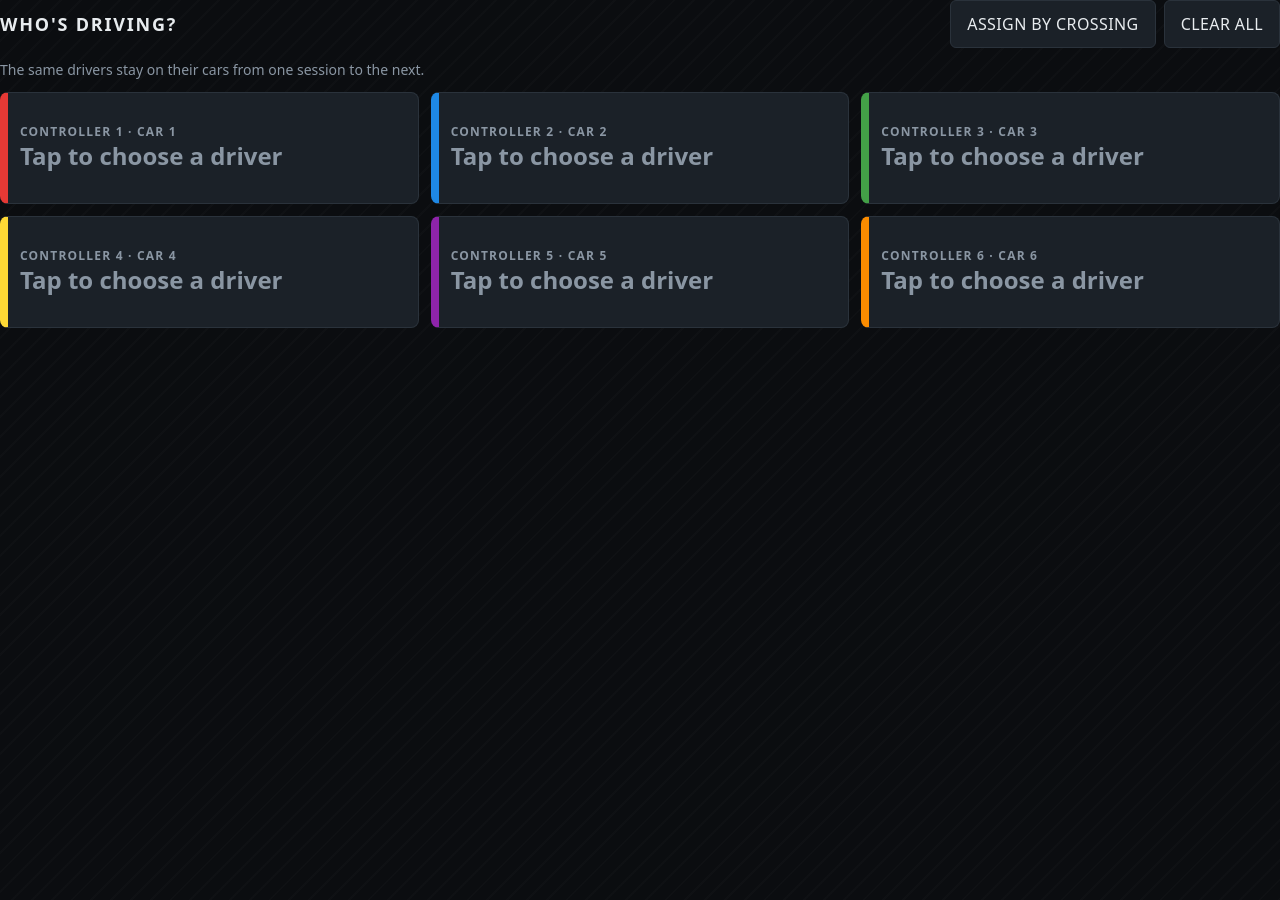
Test: WhoDriving › assigns a driver to a car from the tile picker
The width and height of the screenshot is (1280, 900).
What coordinates should you click on to do the following:
click the button with test id "car-tile"
I would click on:
 (209, 148)
Its box is [0, 92, 419, 204].
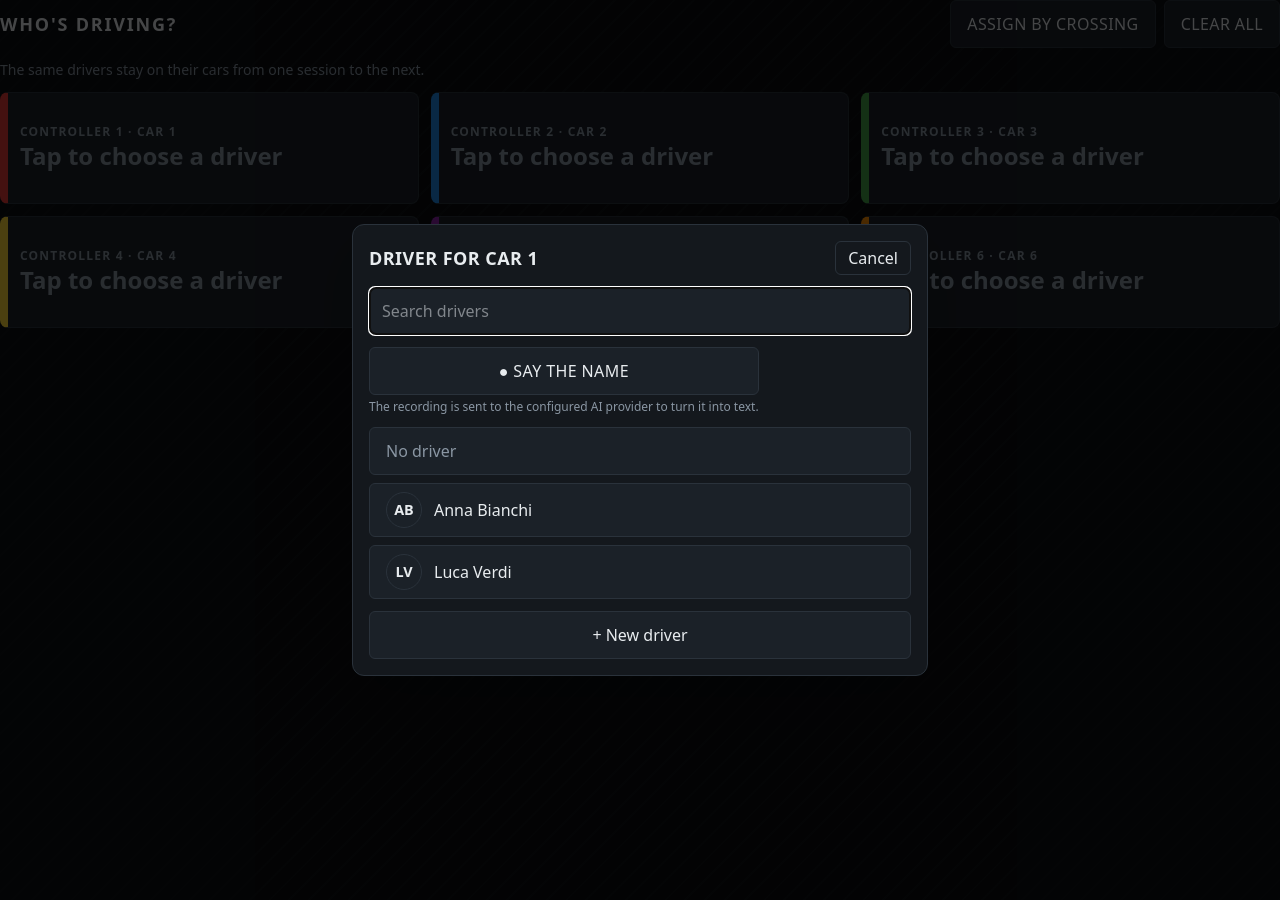
What coordinates should you click on to do the following:
click the text "Luca Verdi"
I would click on:
 (473, 572)
Its box is [434, 560, 512, 584].
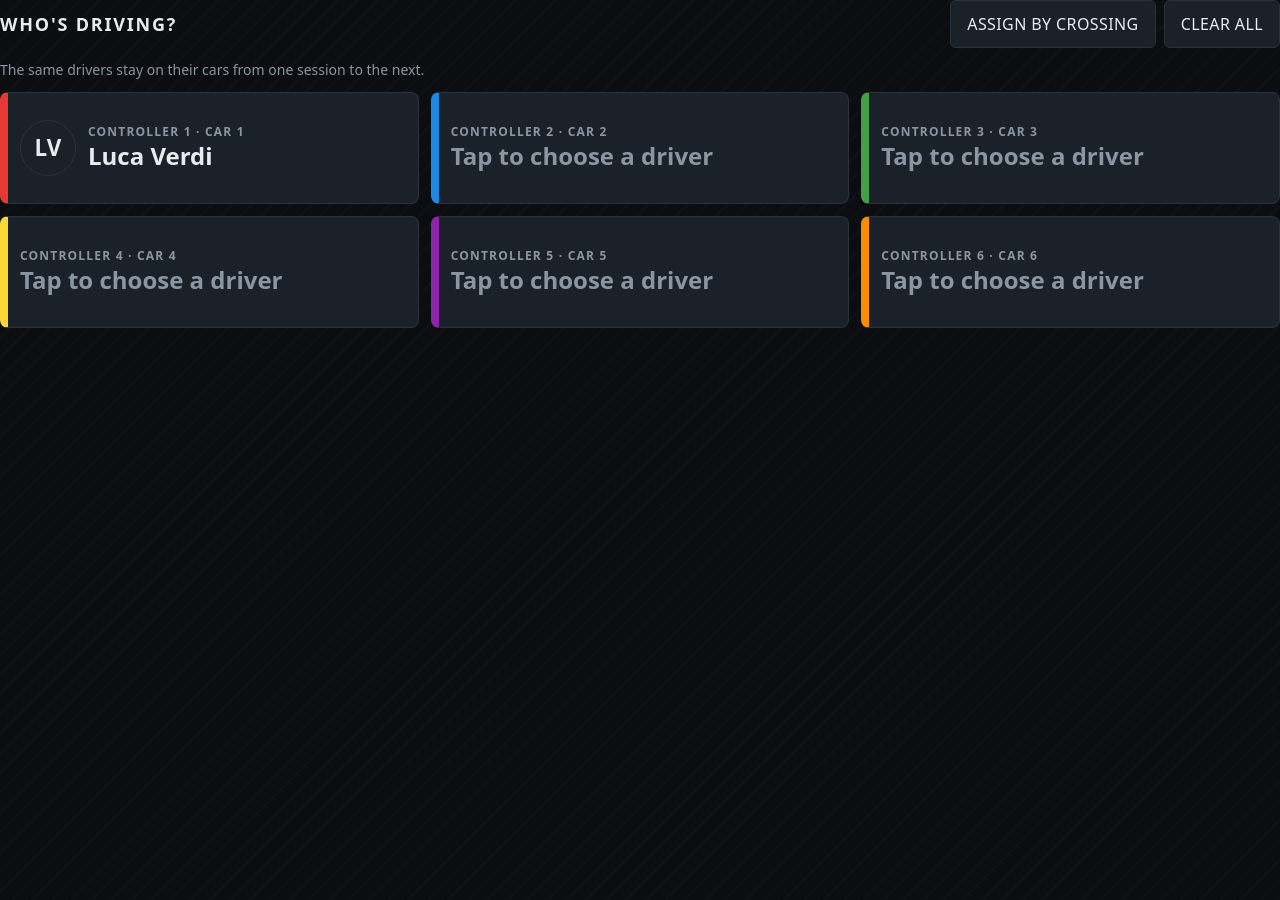
Now the button with test id "car-tile" shows "Luca Verdi", box [0, 92, 419, 204]
